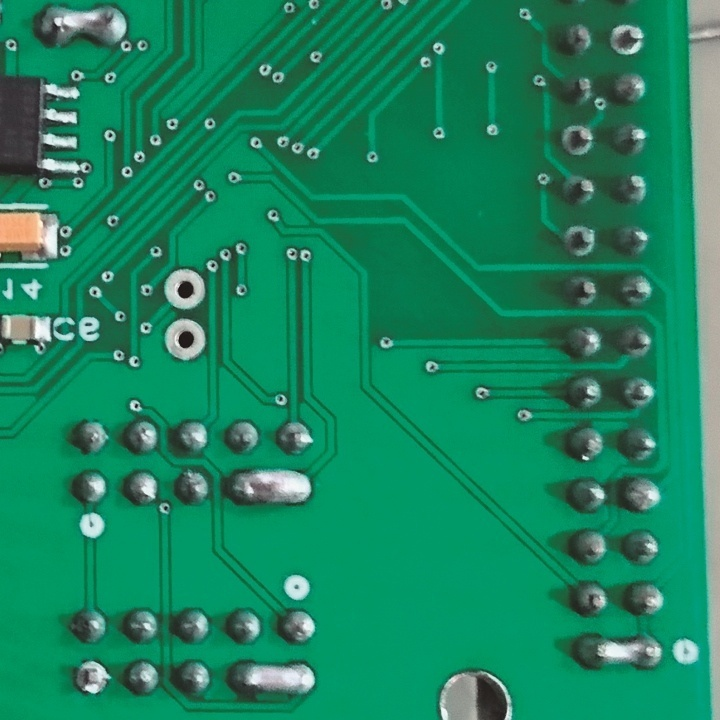F: (164, 320, 206, 366), (162, 267, 207, 308), (72, 658, 113, 697), (608, 21, 646, 58), (561, 223, 598, 258), (561, 122, 594, 158)
P: (33, 3, 130, 52), (570, 630, 667, 677), (224, 463, 313, 512), (225, 657, 319, 703)
